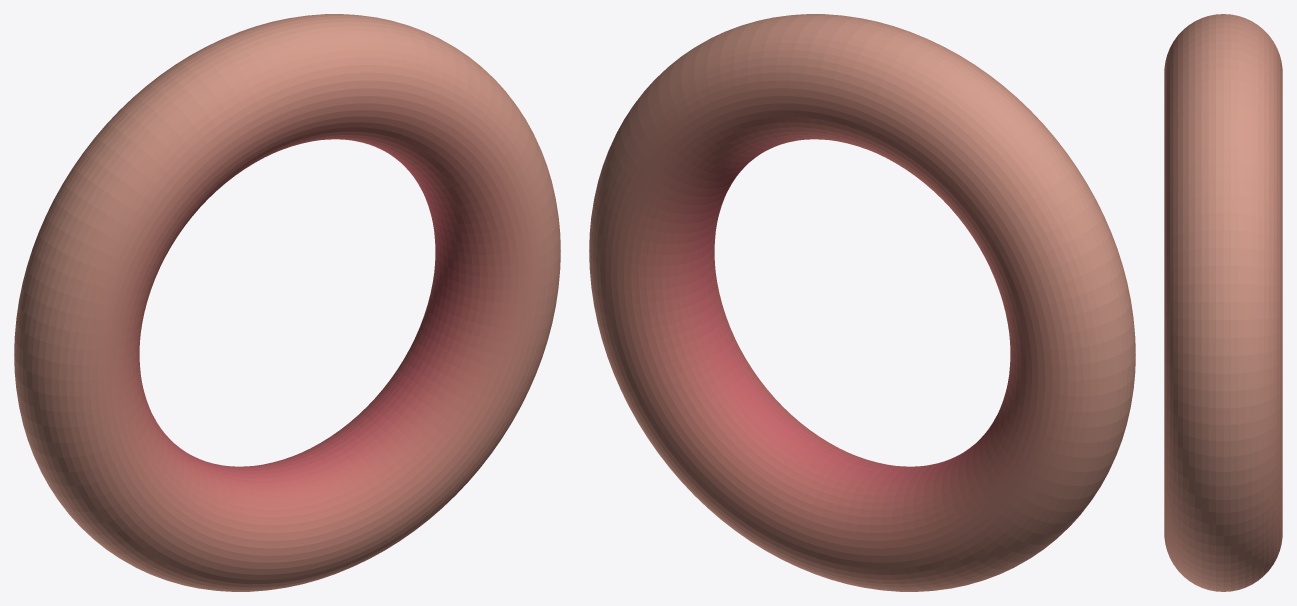
3 views of the same model, side by side, from view 1: azimuth 30°, elevation 25°; view 2: azimuth 150°, elevation 25°; view 3: azimuth 270°, elevation 25° (orthographic). The views are drawn at different scales.
Parts seen in each view (by area): view 1: world; view 2: world; view 3: world.
Part boxes in pixels (bbox=[...]): world: bbox=[14, 14, 560, 591]; world: bbox=[589, 14, 1135, 591]; world: bbox=[1164, 14, 1282, 591].
Bounding box in the file's own units: 31.87 × 31.87 × 6.52.
